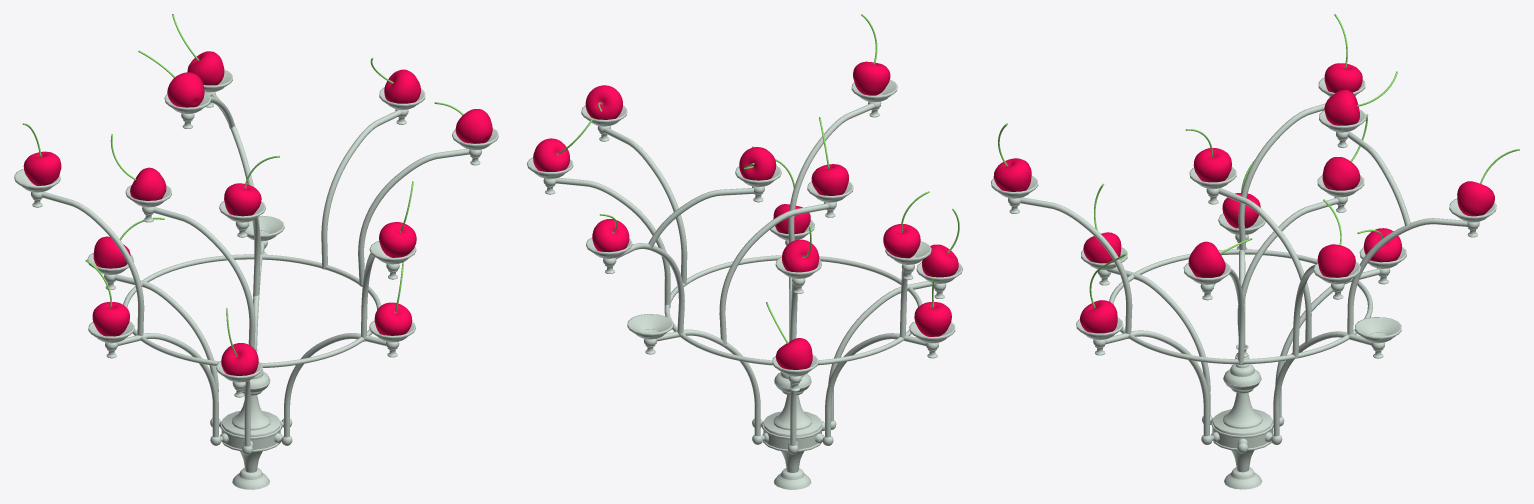
Rendered from lamp2.glb.
3 renders of one model, left to right at view 1: azimuth 30°, elevation 25°; view 2: azimuth 150°, elevation 25°; view 3: azimuth 270°, elevation 25°, orthographic. The views are drawn at different scales.
Parts seen in each view (by area): view 1: SAN-ZW-2-OBJ.084, SAN-ZW-2-OBJ.639, SAN-ZW-2-OBJ.640, SAN-ZW-2-OBJ.002, SAN-ZW-2-OBJ.637, SAN-ZW-2-OBJ.647, SAN-ZW-2-OBJ.679, SAN-ZW-2-OBJ.630, SAN-ZW-2-OBJ.653, SAN-ZW-2-OBJ.657, SAN-ZW-2-OBJ.627, SAN-ZW-2-OBJ.019 (+13 smaller); view 2: SAN-ZW-2-OBJ.084, SAN-ZW-2-OBJ.665, SAN-ZW-2-OBJ.002, SAN-ZW-2-OBJ.639, SAN-ZW-2-OBJ.680, SAN-ZW-2-OBJ.653, SAN-ZW-2-OBJ.630, SAN-ZW-2-OBJ.624, SAN-ZW-2-OBJ.657, SAN-ZW-2-OBJ.679, SAN-ZW-2-OBJ.019, SAN-ZW-2-OBJ.003 (+13 smaller); view 3: SAN-ZW-2-OBJ.084, SAN-ZW-2-OBJ.680, SAN-ZW-2-OBJ.642, SAN-ZW-2-OBJ.665, SAN-ZW-2-OBJ.640, SAN-ZW-2-OBJ.601, SAN-ZW-2-OBJ.651, SAN-ZW-2-OBJ.645, SAN-ZW-2-OBJ.003, SAN-ZW-2-OBJ.655, SAN-ZW-2-OBJ.679, SAN-ZW-2-OBJ.653 (+16 smaller).
Part boxes in pixels (x1,y1,x2,y2): SAN-ZW-2-OBJ.084: [123, 254, 381, 367]; SAN-ZW-2-OBJ.639: [358, 148, 469, 286]; SAN-ZW-2-OBJ.640: [42, 191, 144, 335]; SAN-ZW-2-OBJ.002: [321, 110, 401, 269]; SAN-ZW-2-OBJ.637: [153, 207, 255, 348]; SAN-ZW-2-OBJ.647: [167, 72, 204, 107]; SAN-ZW-2-OBJ.679: [379, 222, 416, 257]; SAN-ZW-2-OBJ.630: [92, 302, 129, 336]; SAN-ZW-2-OBJ.653: [455, 109, 492, 143]; SAN-ZW-2-OBJ.657: [23, 151, 61, 185]; SAN-ZW-2-OBJ.627: [374, 302, 412, 335]; SAN-ZW-2-OBJ.019: [118, 333, 218, 437]; SAN-ZW-2-OBJ.084: [664, 255, 922, 365]; SAN-ZW-2-OBJ.665: [719, 203, 828, 345]; SAN-ZW-2-OBJ.002: [555, 177, 670, 307]; SAN-ZW-2-OBJ.639: [603, 127, 687, 285]; SAN-ZW-2-OBJ.680: [788, 103, 874, 243]; SAN-ZW-2-OBJ.653: [585, 85, 622, 119]; SAN-ZW-2-OBJ.630: [914, 302, 951, 336]; SAN-ZW-2-OBJ.624: [657, 329, 760, 436]; SAN-ZW-2-OBJ.657: [883, 224, 920, 258]; SAN-ZW-2-OBJ.679: [853, 61, 890, 95]; SAN-ZW-2-OBJ.019: [825, 333, 925, 437]; SAN-ZW-2-OBJ.003: [533, 138, 569, 171]; SAN-ZW-2-OBJ.084: [1109, 249, 1372, 364]; SAN-ZW-2-OBJ.680: [1020, 197, 1132, 338]; SAN-ZW-2-OBJ.642: [1347, 218, 1467, 334]; SAN-ZW-2-OBJ.665: [1218, 188, 1311, 343]; SAN-ZW-2-OBJ.640: [1238, 103, 1325, 251]; SAN-ZW-2-OBJ.601: [1106, 330, 1209, 436]; SAN-ZW-2-OBJ.651: [1193, 148, 1231, 182]; SAN-ZW-2-OBJ.645: [1457, 181, 1494, 216]; SAN-ZW-2-OBJ.003: [1317, 244, 1355, 277]; SAN-ZW-2-OBJ.655: [1322, 157, 1360, 190]; SAN-ZW-2-OBJ.679: [993, 158, 1031, 191]; SAN-ZW-2-OBJ.653: [1188, 241, 1225, 277].
Bounding box in the file's own units: 2.49 × 2.23 × 2.72.
